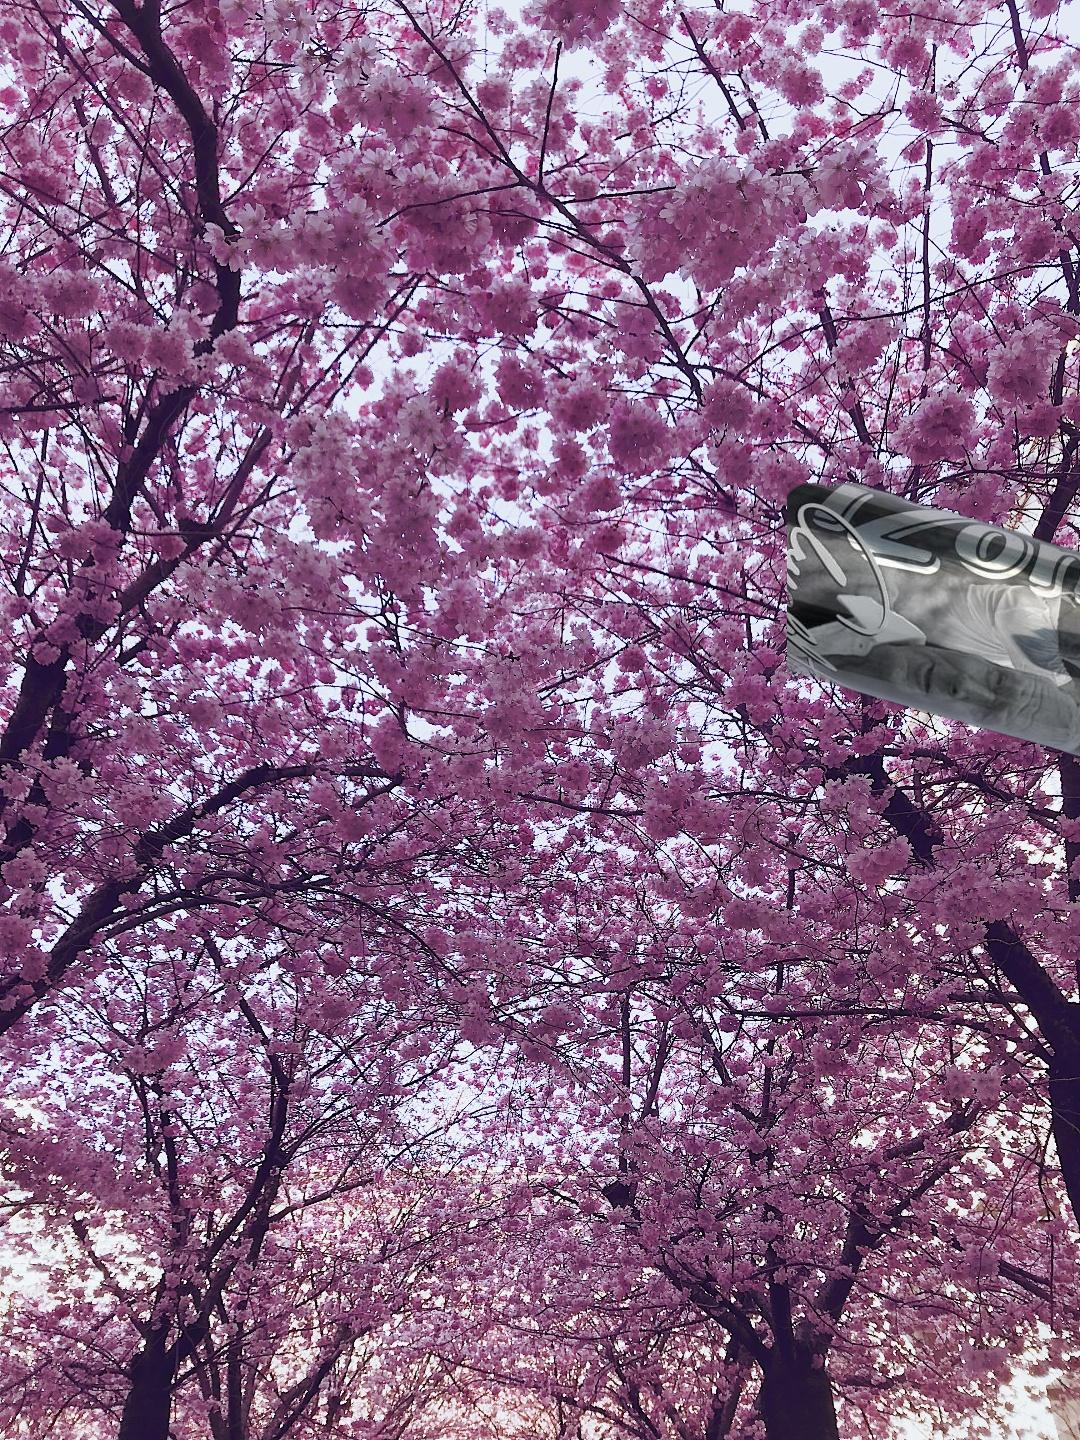metal-cans: (787, 483, 1080, 764)
